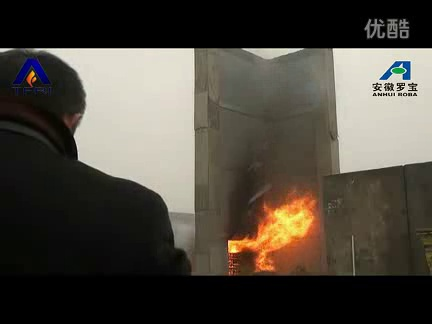fire: (227, 187, 314, 275)
